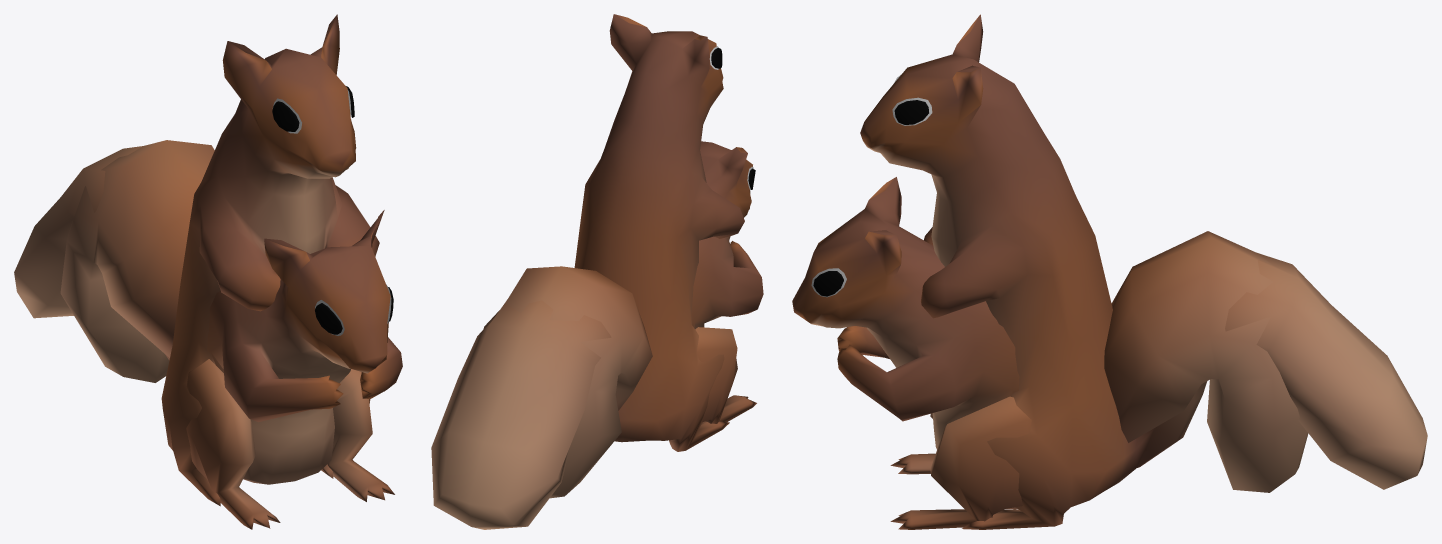
File: RedSquirrel.fbx
3 views of the same model, side by side, from view 1: azimuth 30°, elevation 25°; view 2: azimuth 150°, elevation 25°; view 3: azimuth 270°, elevation 25° (orthographic). The views are drawn at different scales.
Visible parts, largest first — view 1: alt593, alt592; view 2: alt592, alt593; view 3: alt592, alt593.
Part boxes in pixels (x1=…): alt593: x1=60, y1=140, x2=402, y2=529; alt592: x1=14, y1=14, x2=379, y2=506; alt592: x1=431, y1=14, x2=744, y2=529; alt593: x1=483, y1=141, x2=763, y2=498; alt592: x1=860, y1=14, x2=1427, y2=529; alt593: x1=792, y1=177, x2=1308, y2=529.
Bounding box in the file's own units: 0.1045 × 0.2786 × 0.3534.
